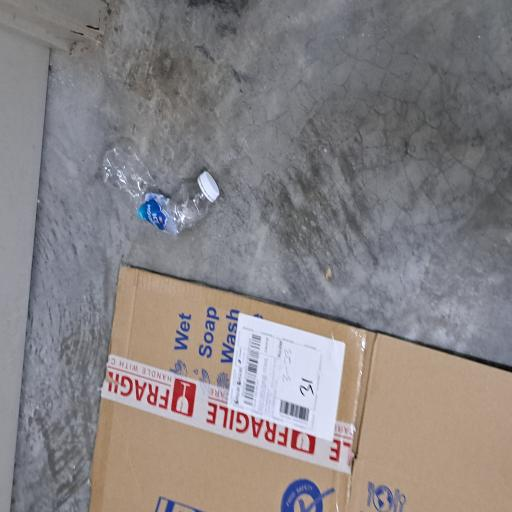cardboard: (0, 118, 184, 512)
plastic bottle: (208, 134, 278, 294)
plastic bottle cap: (232, 262, 258, 294)
